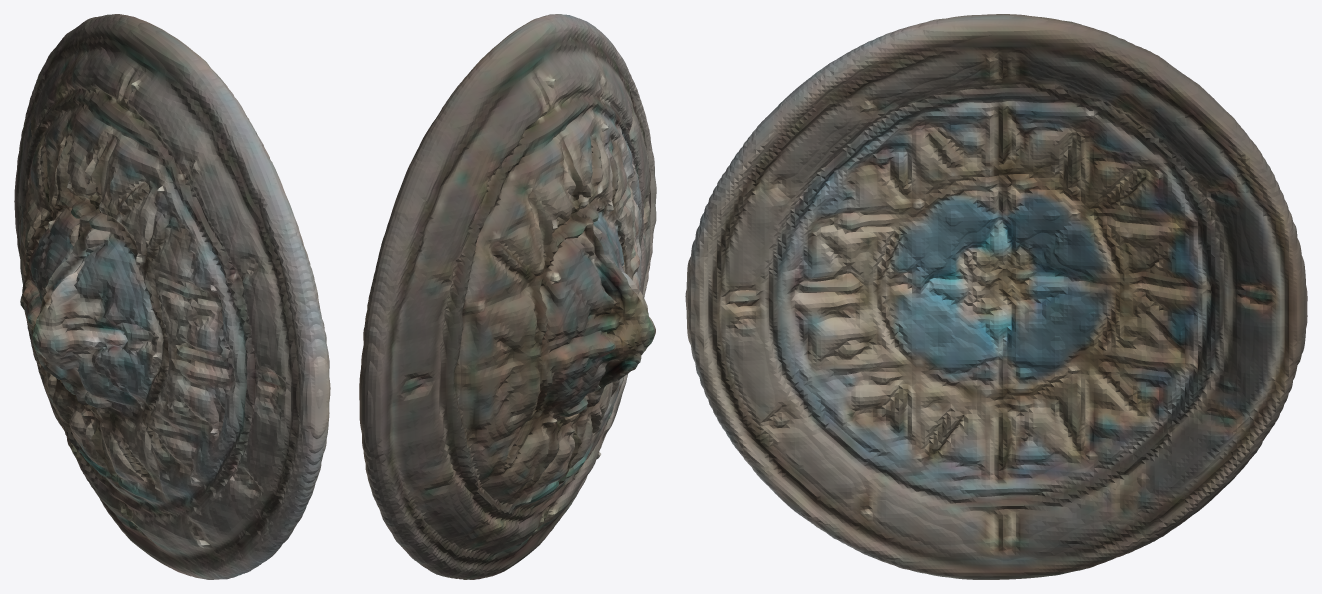
3 renders of one model, left to right at view 1: azimuth 30°, elevation 25°; view 2: azimuth 150°, elevation 25°; view 3: azimuth 270°, elevation 25°, orthographic. The views are drawn at different scales.
Parts seen in each view (by area): view 1: world; view 2: world; view 3: world.
Part boxes in pixels (left/top/right/bottom): world: left=14, top=14, right=330, bottom=579; world: left=359, top=14, right=656, bottom=579; world: left=685, top=14, right=1307, bottom=579.
Size of the model in its own units: 0.3156 by 0.9777 by 0.9797.
